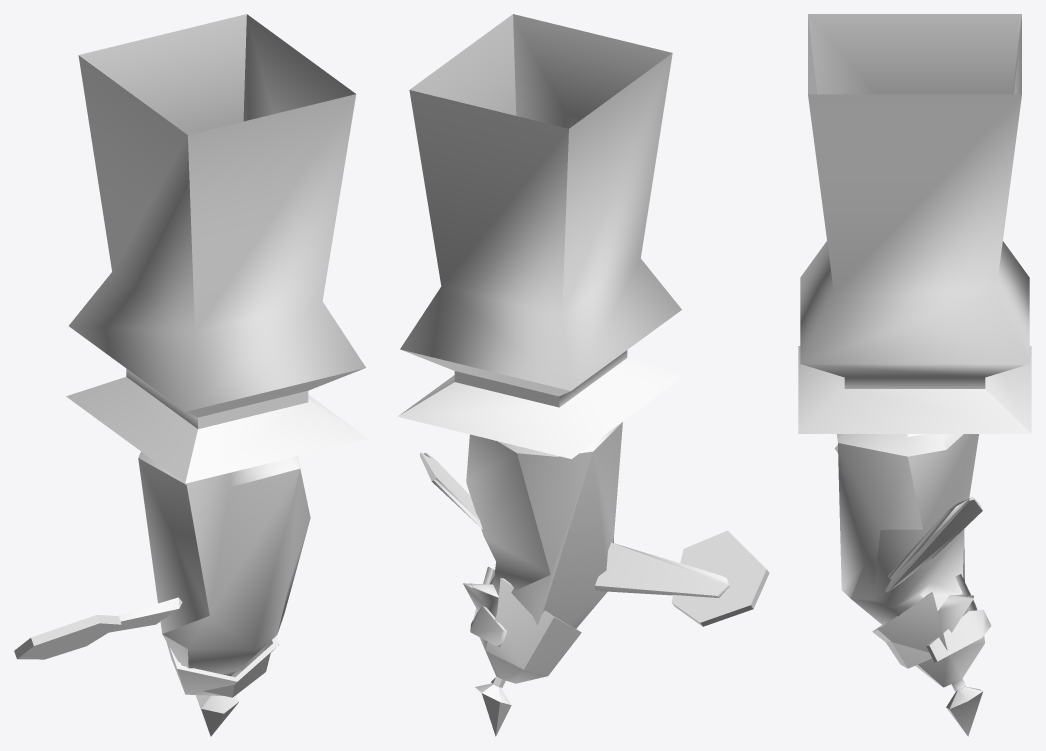
The model's file is estatua1_01.obj.
3 views of the same model, side by side, from view 1: azimuth 30°, elevation 25°; view 2: azimuth 150°, elevation 25°; view 3: azimuth 270°, elevation 25° (orthographic). The views are drawn at different scales.
Parts seen in each view (by area): view 1: discobolo_Cylinder_discobolo_Cylinder.001; view 2: discobolo_Cylinder_discobolo_Cylinder.001; view 3: discobolo_Cylinder_discobolo_Cylinder.001.
Part boxes in pixels (x1,y1,x2,y2): discobolo_Cylinder_discobolo_Cylinder.001: (14, 14, 368, 736); discobolo_Cylinder_discobolo_Cylinder.001: (398, 14, 769, 736); discobolo_Cylinder_discobolo_Cylinder.001: (798, 14, 1031, 736).
Size of the model in its own units: 43.5 by 91.49 by 28.79.
